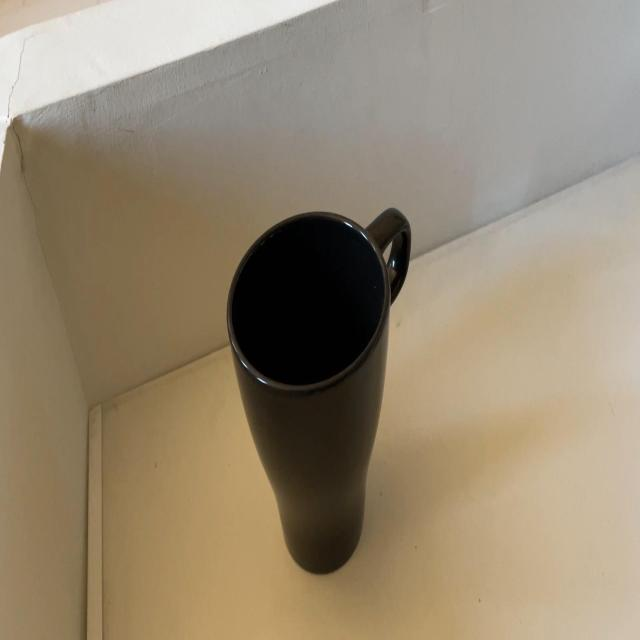cup: (226, 208, 412, 577)
